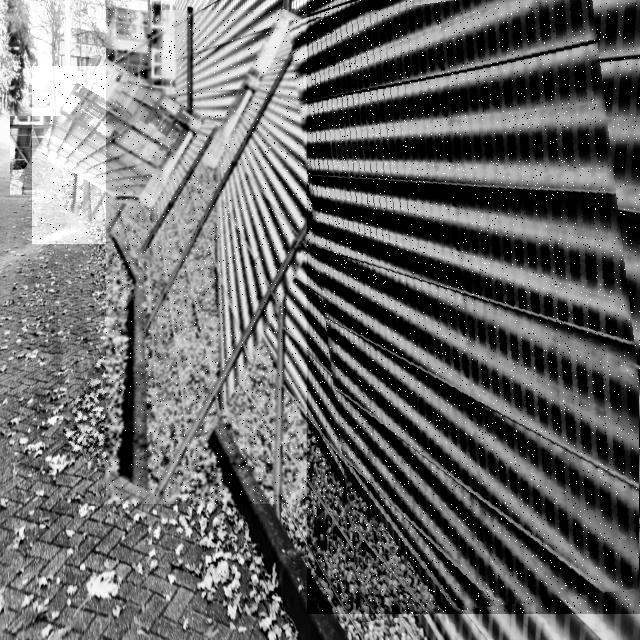fences: (307, 0, 640, 614), (106, 10, 350, 504), (32, 66, 209, 244)
